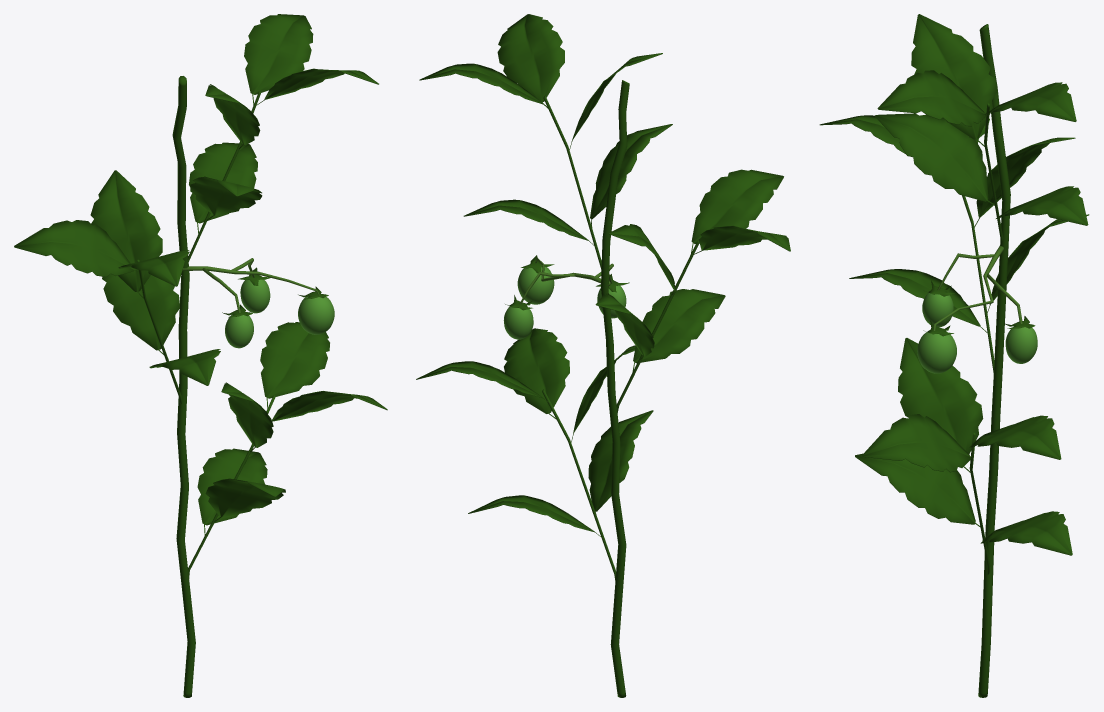
File: TomateVerde.fbx
The picture shows the model from 3 angles, left to right: view 1: azimuth 30°, elevation 25°; view 2: azimuth 150°, elevation 25°; view 3: azimuth 270°, elevation 25°; orthographic projection. The views are drawn at different scales.
Visible parts, largest first — view 1: TomateVerde; view 2: TomateVerde; view 3: TomateVerde.
Boxes of the visible parts, bbox=[...] form: TomateVerde: bbox=[14, 14, 387, 697]; TomateVerde: bbox=[416, 14, 790, 697]; TomateVerde: bbox=[819, 14, 1089, 697].
Size of the model in its own units: 55.55 by 97.06 by 35.14.
